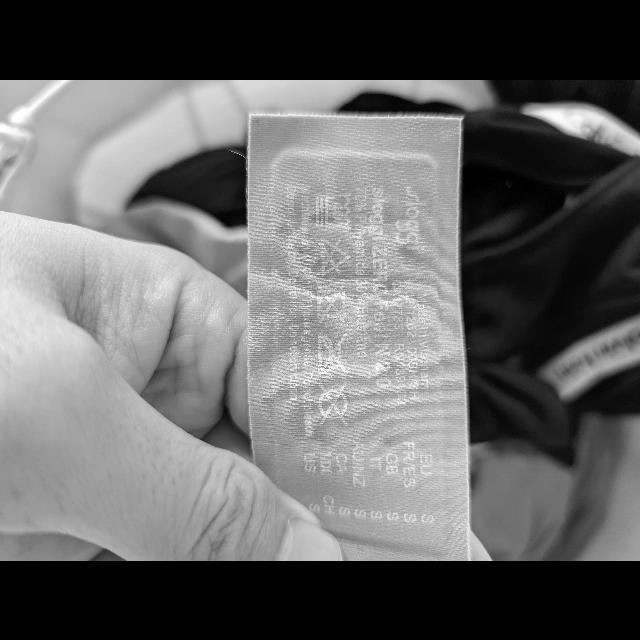40C: (311, 188, 353, 230)
DN_bleach: (312, 234, 352, 280)
DN_dry_clean: (315, 380, 351, 428)
DN_iron: (316, 330, 350, 376)
DN_tumble_dry: (314, 284, 350, 324)
